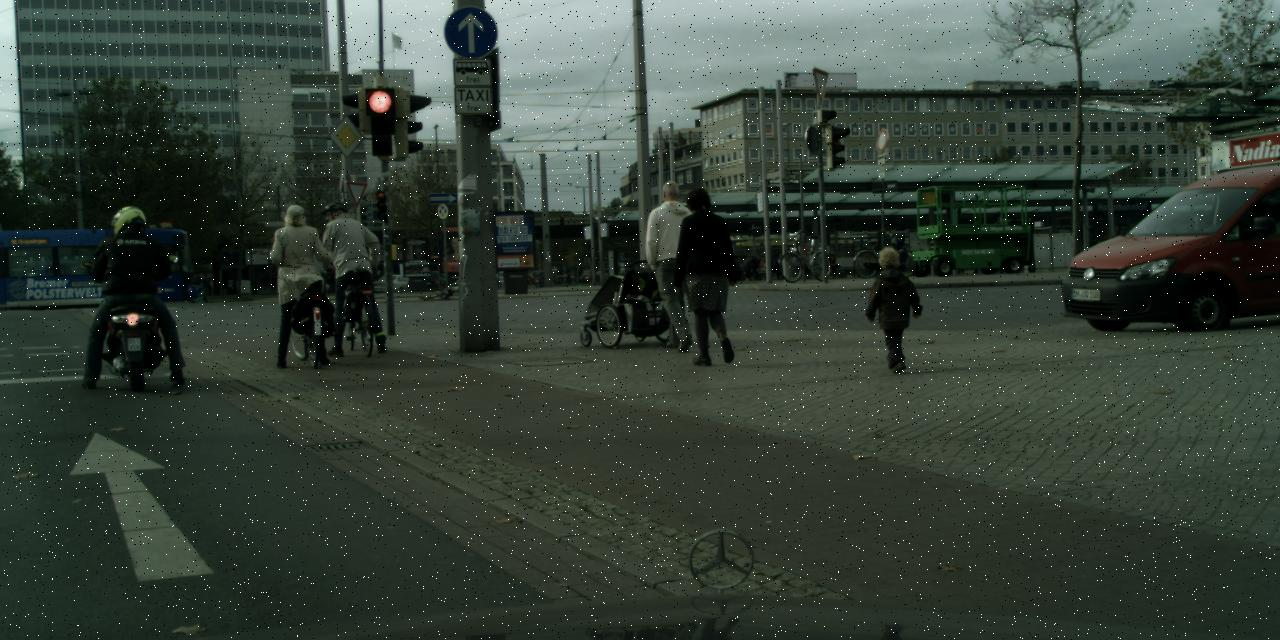ped: (95, 204, 169, 387), (671, 185, 745, 365), (638, 180, 709, 352), (265, 203, 332, 367), (316, 200, 378, 354), (866, 245, 918, 374)
